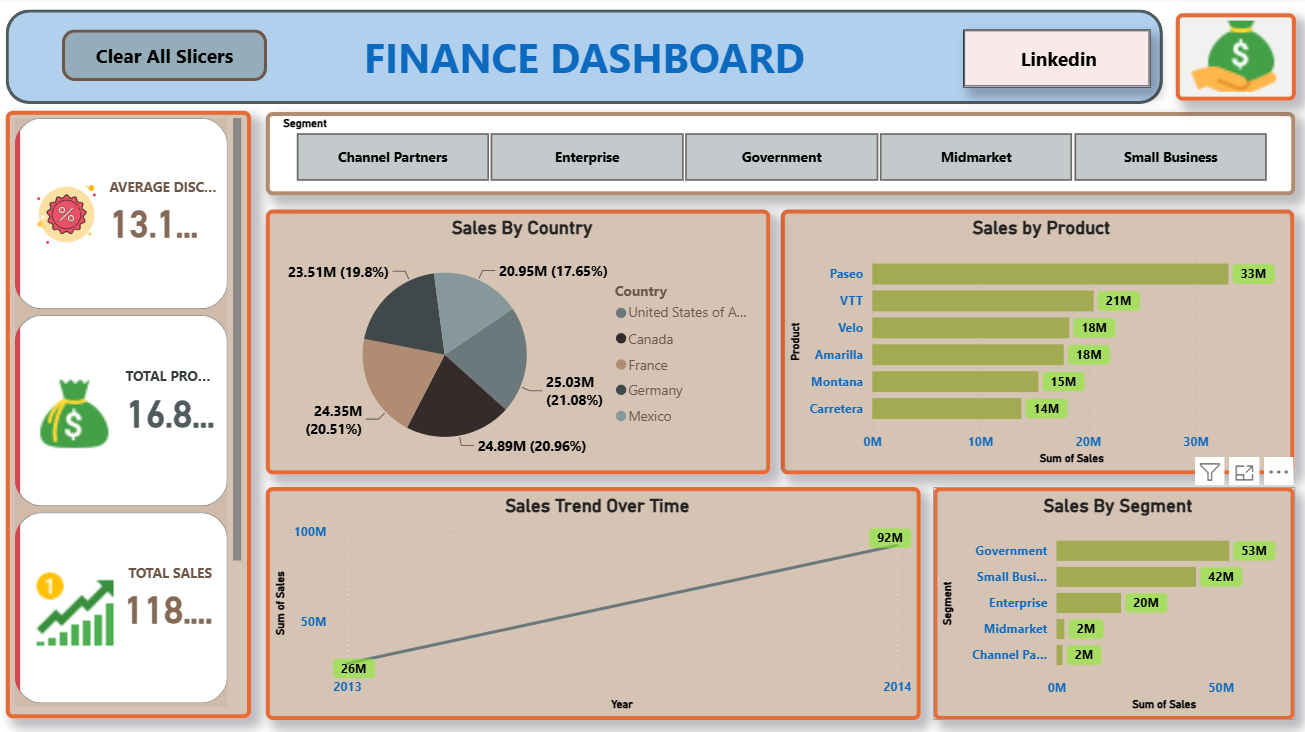

This screenshot's page, from the dashboard's own definition file:
{"tool":"powerbi","page":{"name":"Q9 Sales Analysis","canvas":[1280,720],"ordinal":0},"visuals":[{"type":"cardVisual","fields":{"Data":["financials.AVERAGE DISCOUNT","financials.TOTAL PROFIT","financials.TOTAL SALES FINANCE","financials.TOTAL UNITS SOLD"]},"box":[9.1,111.9,239.9,594.6],"z":0},{"type":"clusteredBarChart","title":" Sales by Product","fields":{"Category":["financials.Product"],"Y":["Sum(financials. Sales)"]},"box":[766.6,207.6,502,258.8],"z":1000},{"type":"pieChart","title":"Sales By Country","fields":{"Category":["financials.Country"],"Y":["Sum(financials.Sales)"]},"box":[263.1,207.6,493.5,258.8],"z":2000},{"type":"lineChart","title":"Sales Trend Over Time","fields":{"Y":["Sum(financials. Sales)"],"Category":["financials.Date.Variation.Date Hierarchy.Year","financials.Date.Variation.Date Hierarchy.Quarter","financials.Date.Variation.Date Hierarchy.Month","financials.Date.Variation.Date Hierarchy.Day"]},"box":[263.4,478.8,640.7,227.8],"z":3000},{"type":"slicer","fields":{"Values":["financials.Segment"]},"box":[263.4,112.1,1007.4,81.9],"z":4000},{"type":"shape","box":[8.9,12.5,1131.9,92.5],"z":5000},{"type":"actionButton","box":[63.5,31.7,200.5,50.5],"z":6000},{"type":"clusteredBarChart","title":" Sales By Segment","fields":{"Category":["financials.Segment"],"Y":["Sum(financials.Sales)"]},"box":[916.2,479,353.5,228],"z":7000},{"type":"image","box":[1153.3,16,117.5,85.4],"z":8000},{"type":"shape","box":[945,31.7,183.3,56.7],"z":9000}]}

Visuals, with their boxes in screenshot pixels (x1, y1, x2, y2), scaled from the page's 1280x720 canvas onto the 1305x732 screenshot:
cardVisual - financials.AVERAGE DISCOUNT x financials.TOTAL PROFIT: box=[9, 114, 254, 718]
" Sales by Product" clusteredBarChart: box=[782, 211, 1293, 474]
"Sales By Country" pieChart: box=[268, 211, 771, 474]
"Sales Trend Over Time" lineChart: box=[269, 487, 922, 718]
slicer - financials.Segment: box=[269, 114, 1296, 197]
shape: box=[9, 13, 1163, 107]
actionButton: box=[65, 32, 269, 84]
" Sales By Segment" clusteredBarChart: box=[934, 487, 1294, 719]
image: box=[1176, 16, 1296, 103]
shape: box=[963, 32, 1150, 90]
